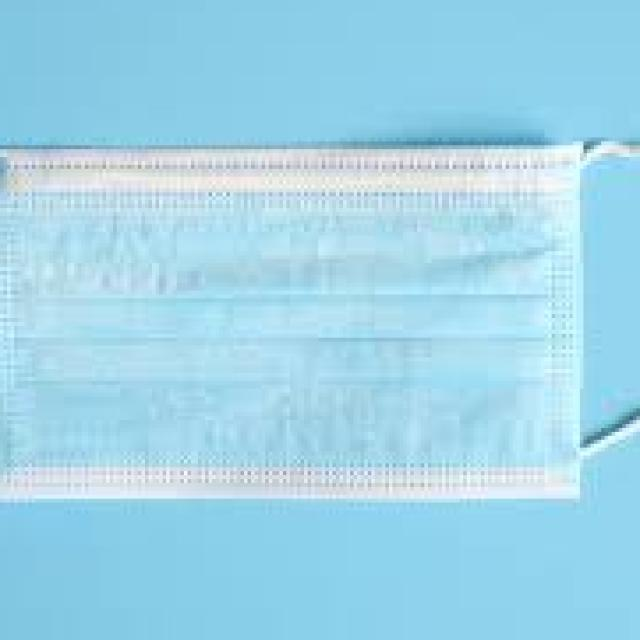organic: (12, 105, 617, 600)
